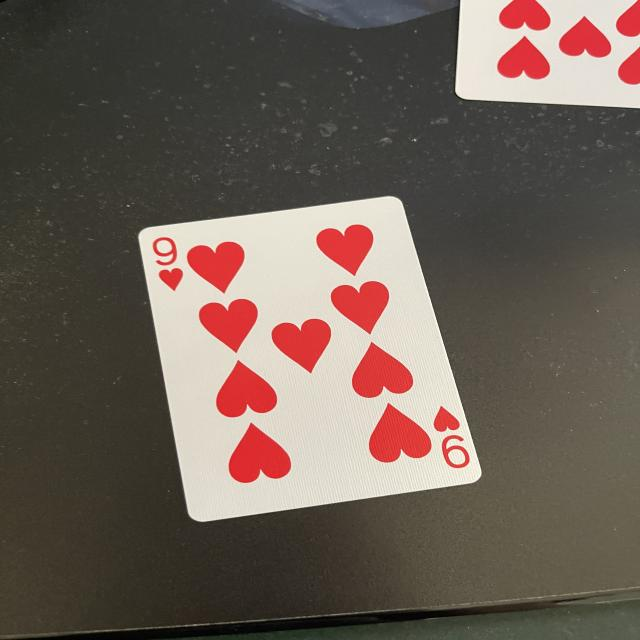9 of hearts: (138, 193, 487, 524)
